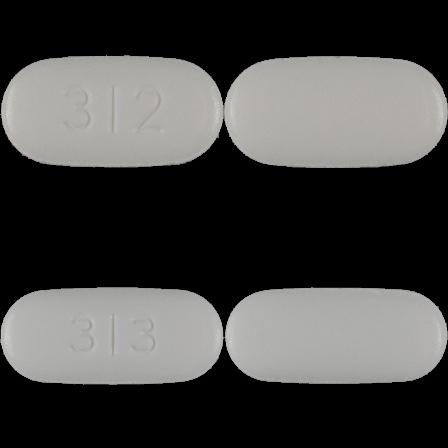66582-312: (0, 0, 224, 224)
